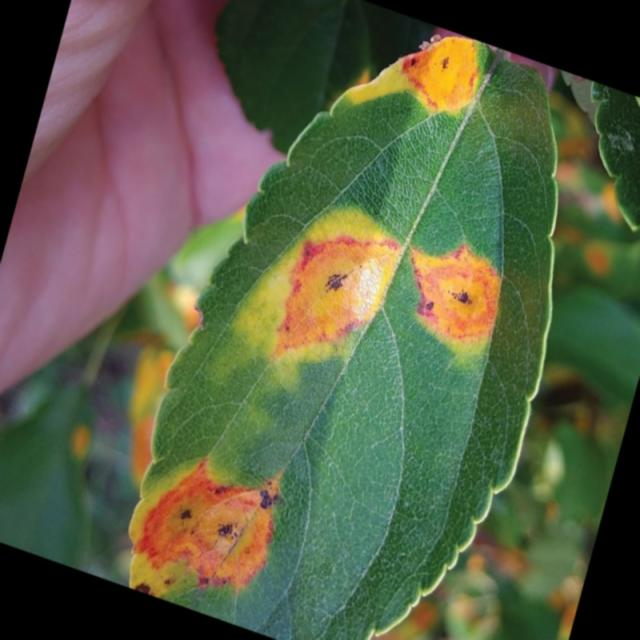Gymnosporangium_Rusts: (126, 32, 560, 638)
